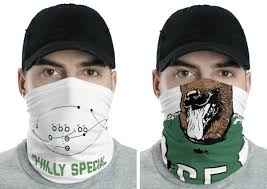cloth_mask: (155, 80, 257, 184), (23, 77, 115, 181)
